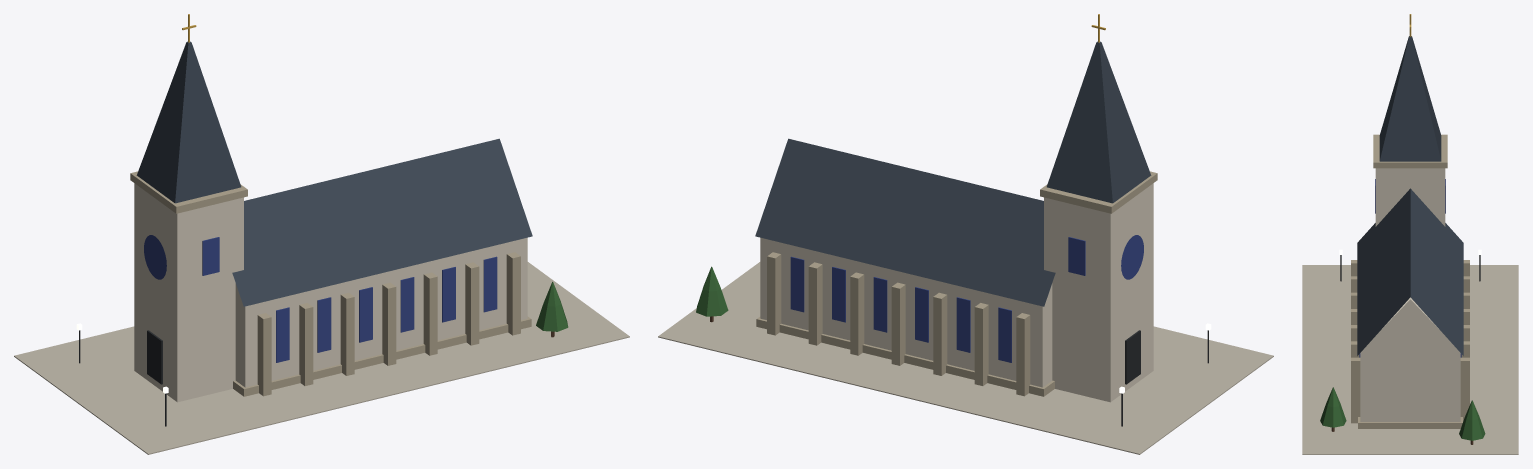
File: church.glb
3 renders of one model, left to right at view 1: azimuth 30°, elevation 25°; view 2: azimuth 150°, elevation 25°; view 3: azimuth 270°, elevation 25°, orthographic. The views are drawn at different scales.
Visible parts, largest first — view 1: Church_static; view 2: Church_static; view 3: Church_static.
Part boxes in pixels (x1=…): Church_static: x1=14, y1=14, x2=629, y2=454; Church_static: x1=658, y1=14, x2=1273, y2=454; Church_static: x1=1302, y1=14, x2=1518, y2=454.
Bounding box in the file's own units: 58 × 42 × 28.
